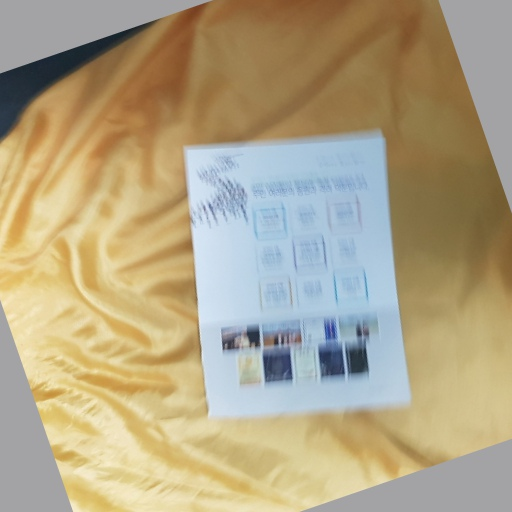Paper_2: (173, 128, 422, 427)
